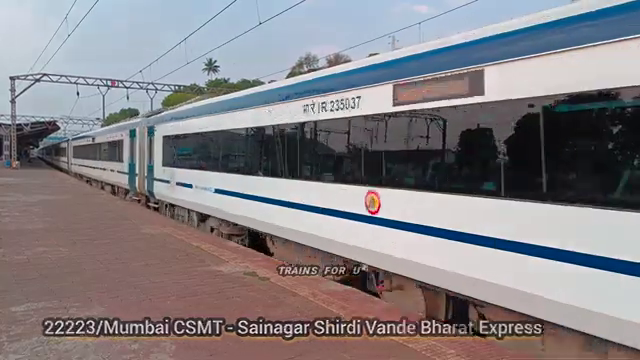Boogie: (325, 98, 367, 115)
